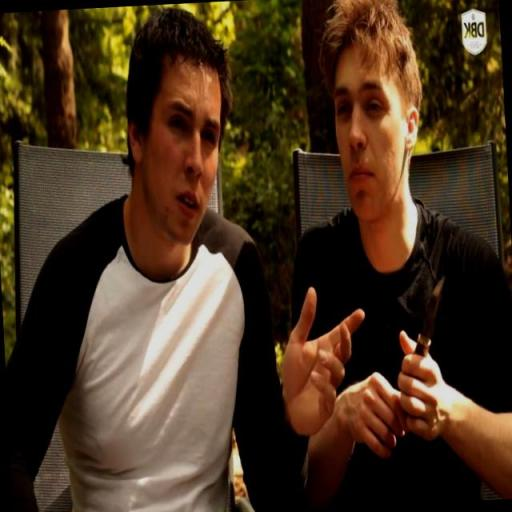knife: (389, 249, 457, 412)
